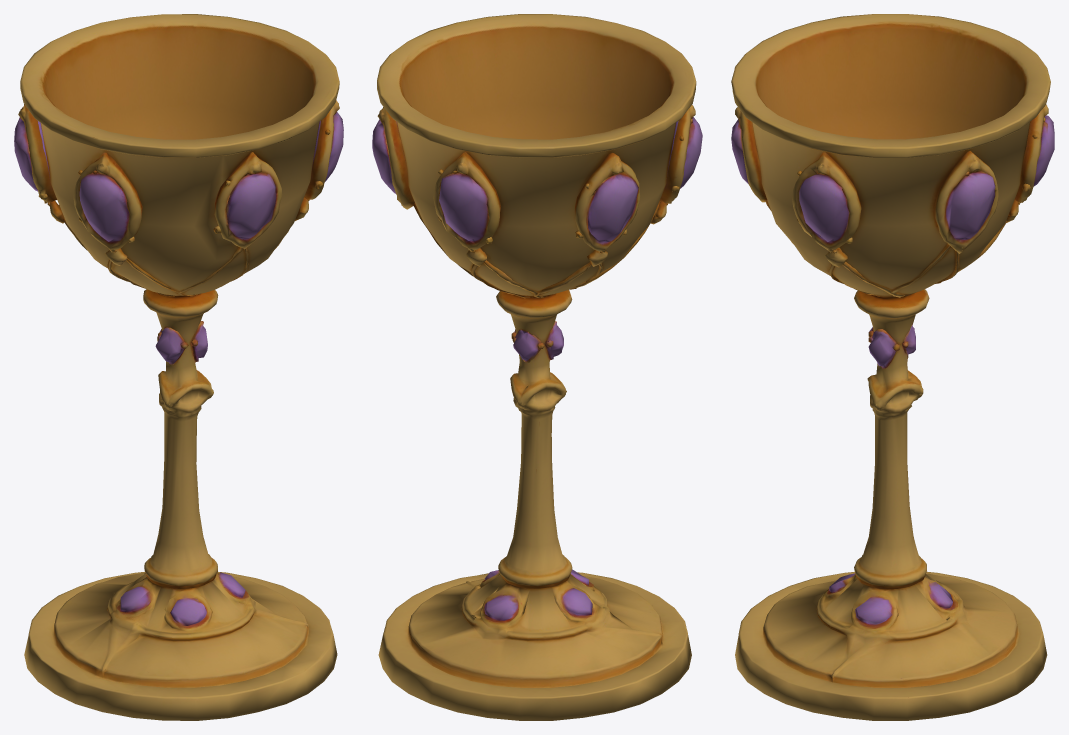
The model's file is r33-grail.glb.
The picture shows the model from 3 angles, left to right: view 1: azimuth 30°, elevation 25°; view 2: azimuth 150°, elevation 25°; view 3: azimuth 270°, elevation 25°; orthographic projection.
Parts seen in each view (by area): view 1: tripo_node_8b063391-4e27-4b4e-b137-61efddd25e11; view 2: tripo_node_8b063391-4e27-4b4e-b137-61efddd25e11; view 3: tripo_node_8b063391-4e27-4b4e-b137-61efddd25e11.
Boxes of the visible parts, x1,y1,x2,y2 form: tripo_node_8b063391-4e27-4b4e-b137-61efddd25e11: [14, 14, 343, 720]; tripo_node_8b063391-4e27-4b4e-b137-61efddd25e11: [372, 14, 702, 720]; tripo_node_8b063391-4e27-4b4e-b137-61efddd25e11: [731, 14, 1054, 720].
Bounding box in the file's own units: 0.502 × 0.998 × 0.5098.
Materials: 1 (1 with a texture image).
